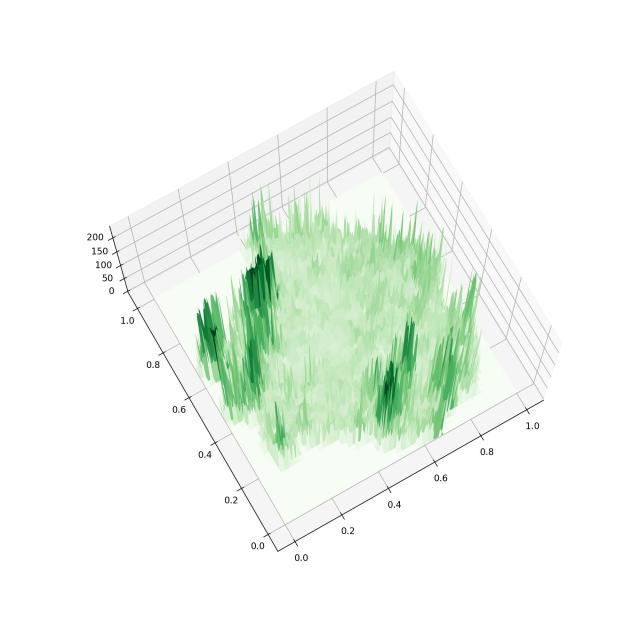fir: (55, 31, 602, 589)
